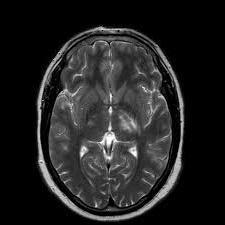Normal_Brain: (29, 5, 196, 225)
